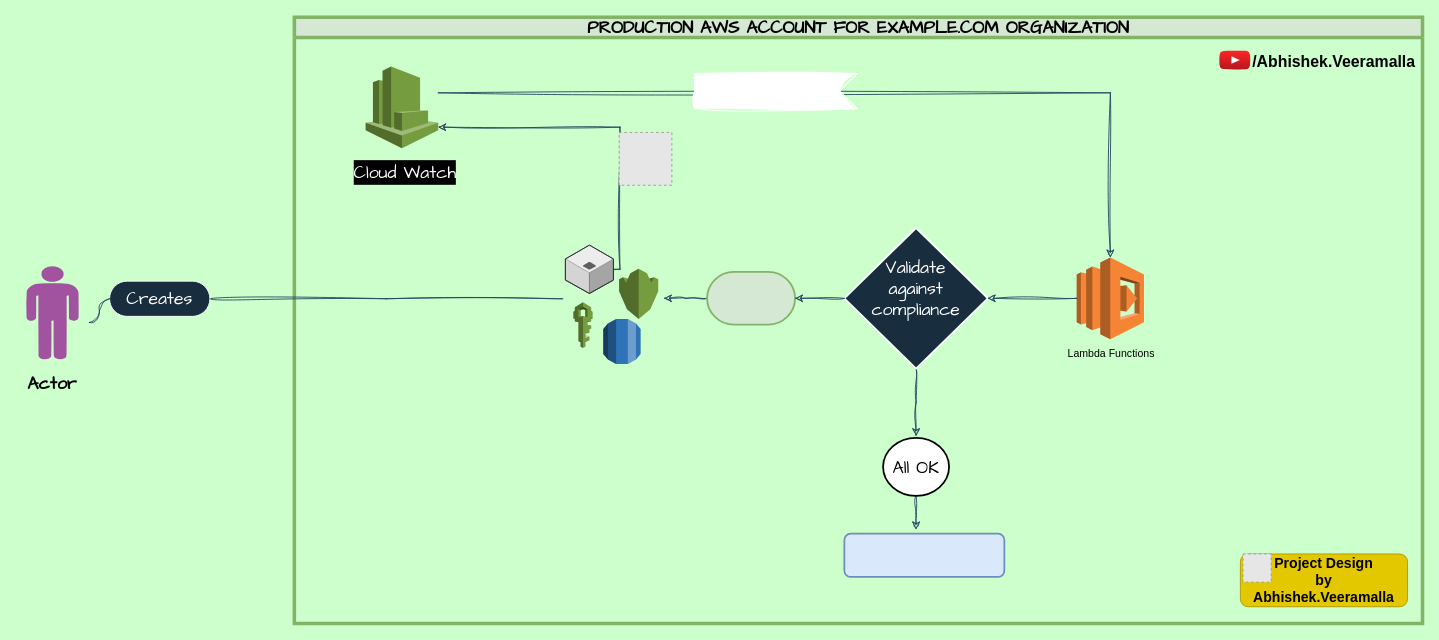
This 1439x640 diagram has some shape labels left out. Grey dashed boxes stand in for pictures. The shapes that lost their labels are listed below. From the top down, each one's centre as x and y in pixels, then its label:
(776,91): Trigger1 spec.
(751,298): Make Changes
(924,554): DO NOTHING
